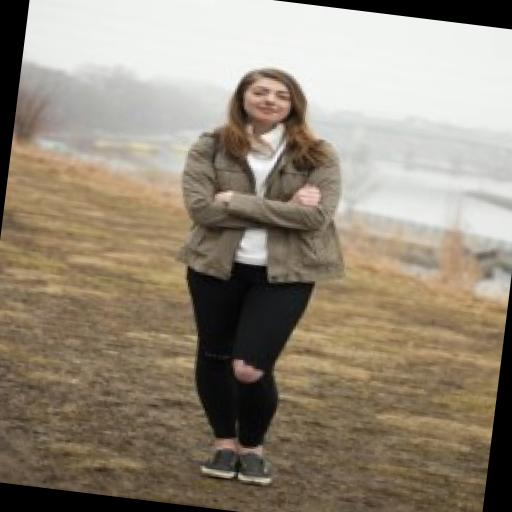human: (142, 48, 365, 494)
